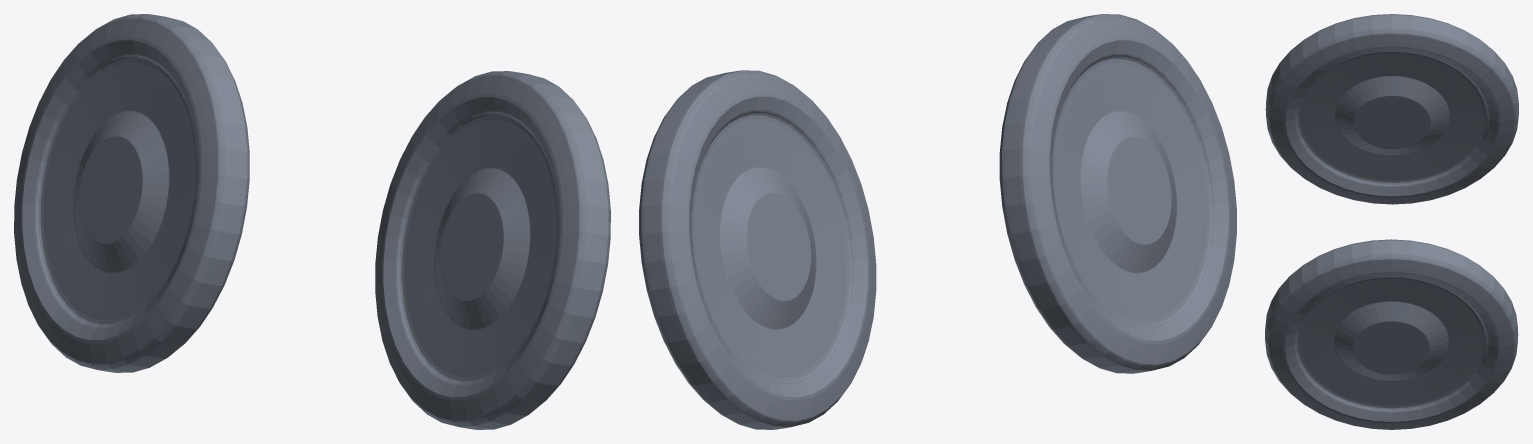
The model's file is weight_6_1.obj.
3 renders of one model, left to right at view 1: azimuth 30°, elevation 25°; view 2: azimuth 150°, elevation 25°; view 3: azimuth 270°, elevation 25°, orthographic. The views are drawn at different scales.
Bounding box in the file's own units: 0.9172 × 0.8006 × 0.5733.
